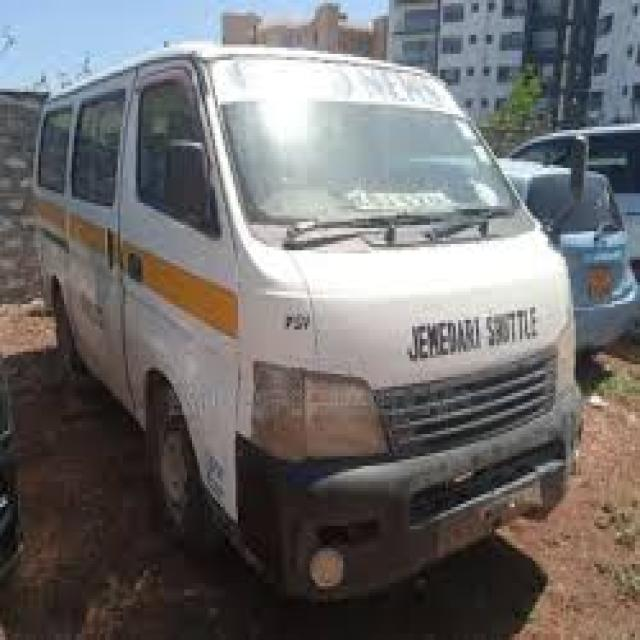matatu: (22, 31, 614, 634)
